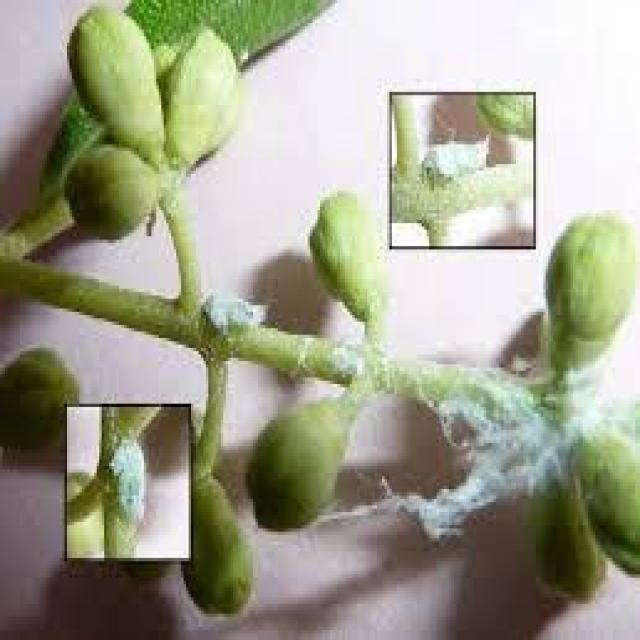Psyllid: (318, 342, 638, 556), (102, 407, 144, 551), (201, 289, 273, 346)
